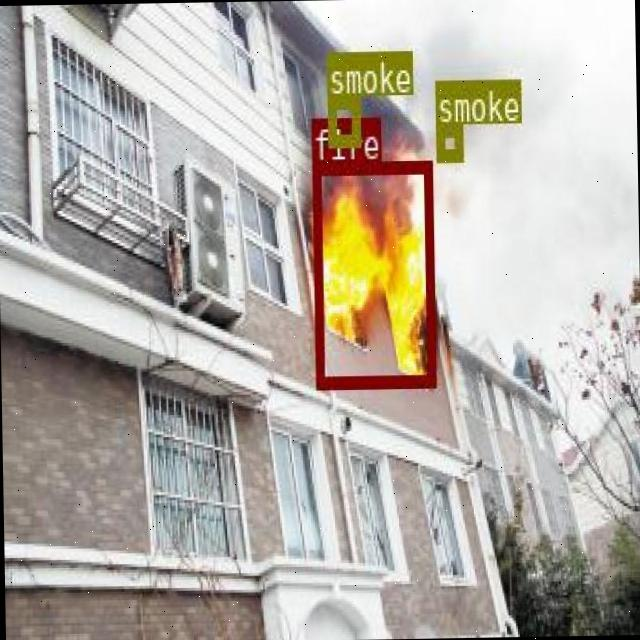fire: (310, 160, 433, 387)
smoke: (326, 95, 359, 145), (434, 124, 462, 158)
